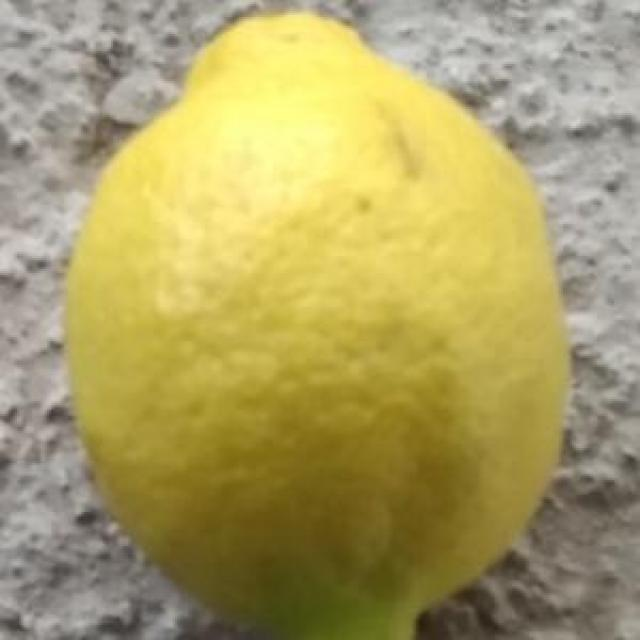lemon: (63, 9, 571, 640)
